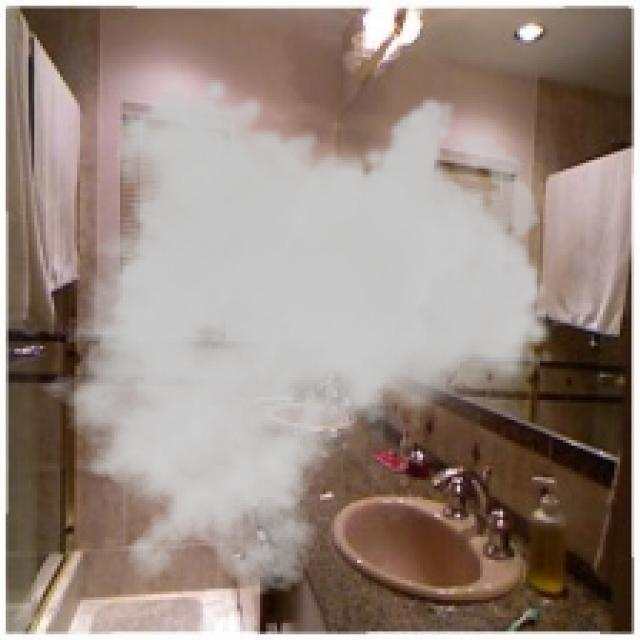Smoke: (22, 74, 554, 597)
